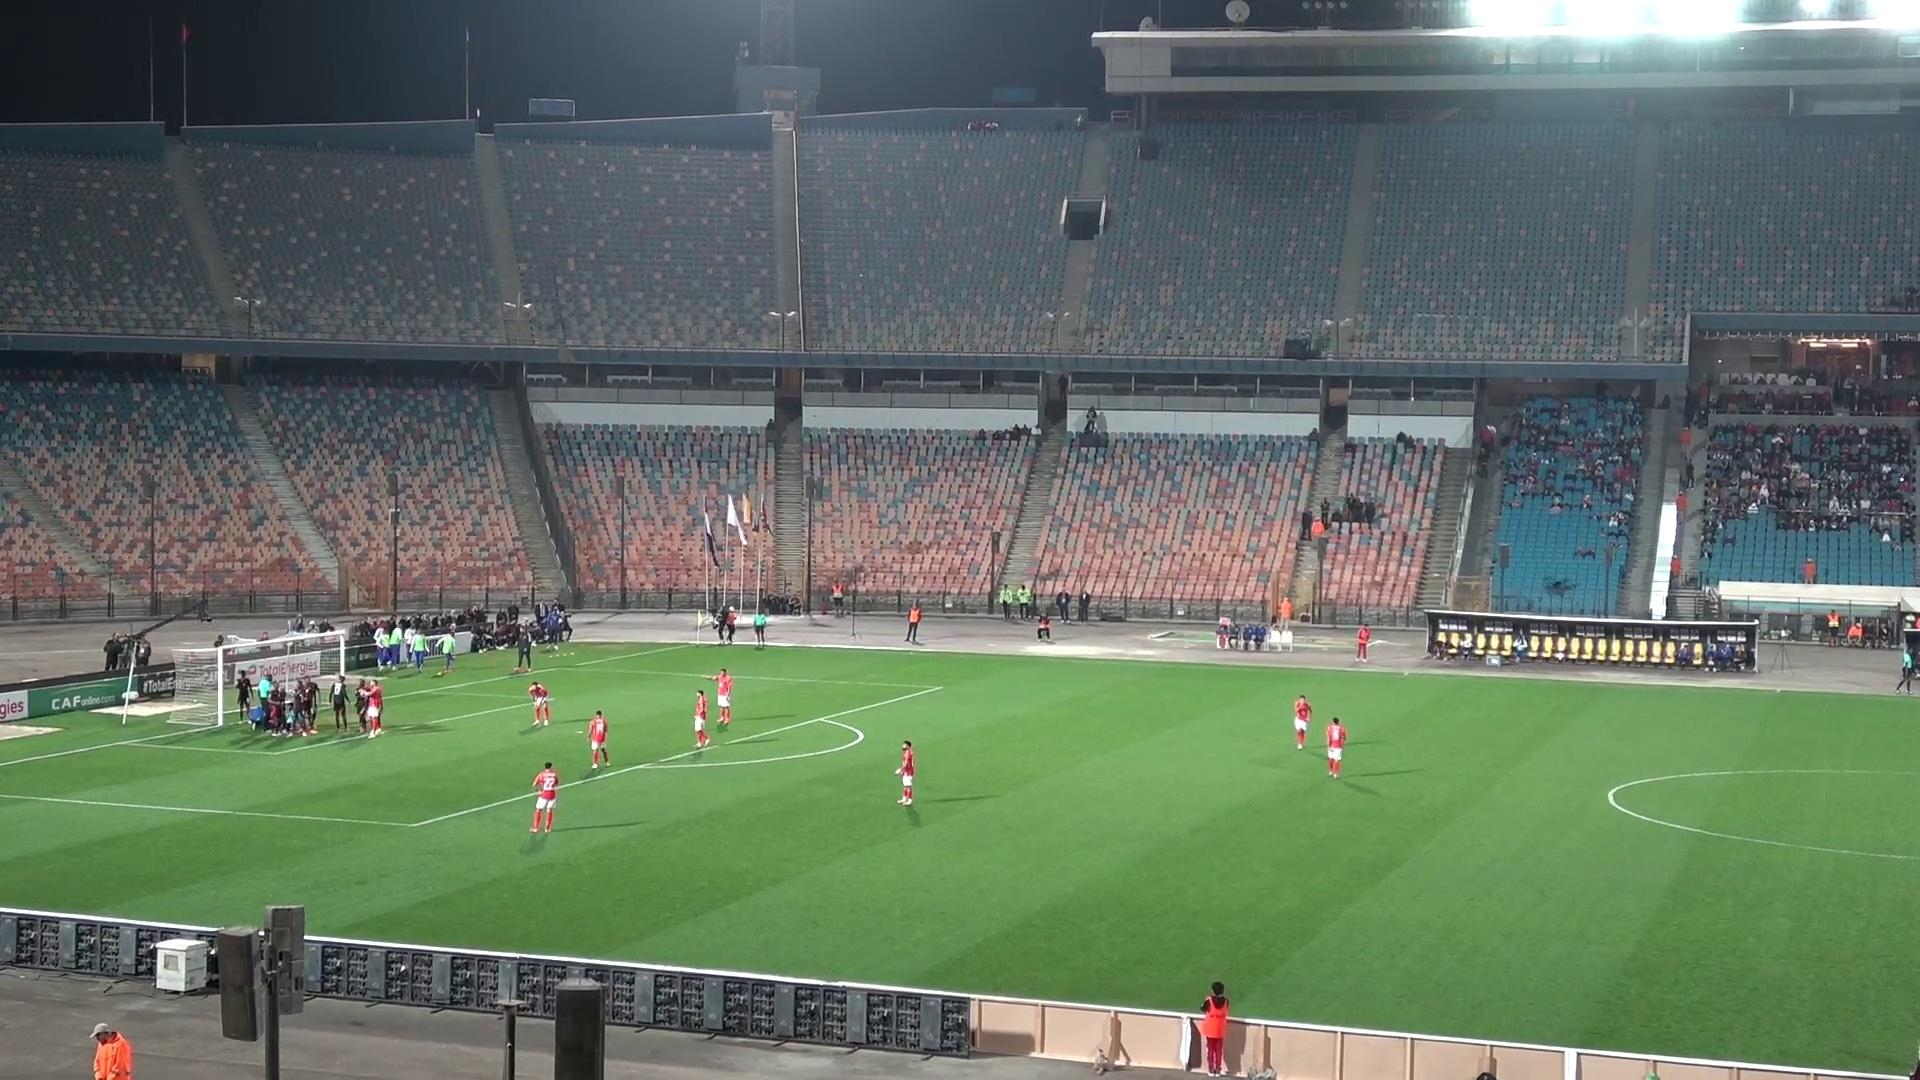Refree: (252, 667, 277, 732), (1894, 630, 1919, 694), (749, 601, 767, 647)
Team1: (527, 762, 562, 835), (894, 740, 916, 808), (588, 709, 611, 770), (1324, 717, 1346, 778), (713, 669, 735, 731), (1292, 694, 1313, 750), (692, 690, 711, 750), (527, 680, 550, 725)
Team2: (331, 674, 363, 731), (290, 676, 319, 736)
